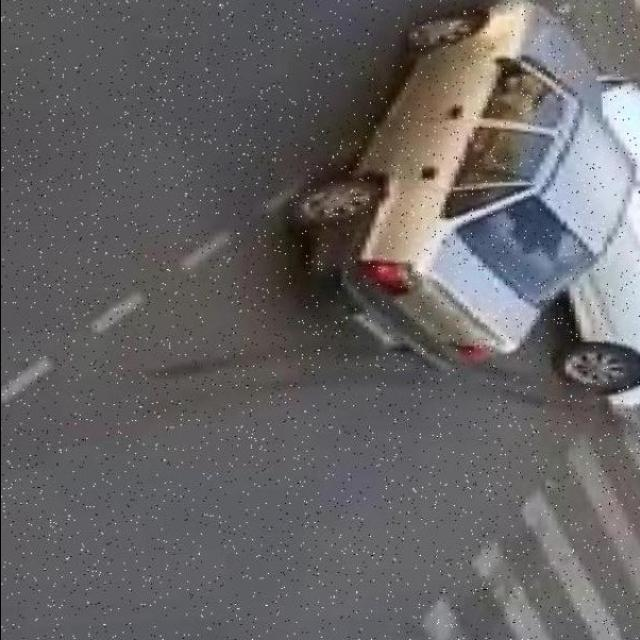accident: (287, 0, 640, 436)
